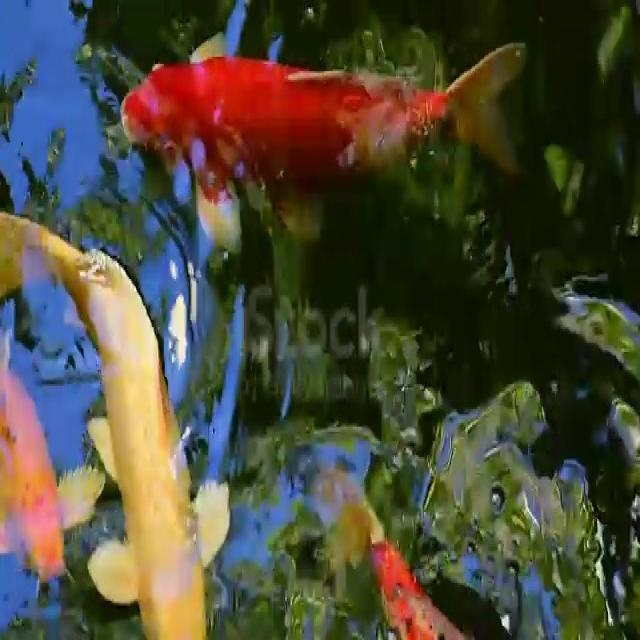fish: (113, 17, 532, 274), (16, 188, 254, 640), (351, 474, 467, 640), (0, 364, 73, 584)
